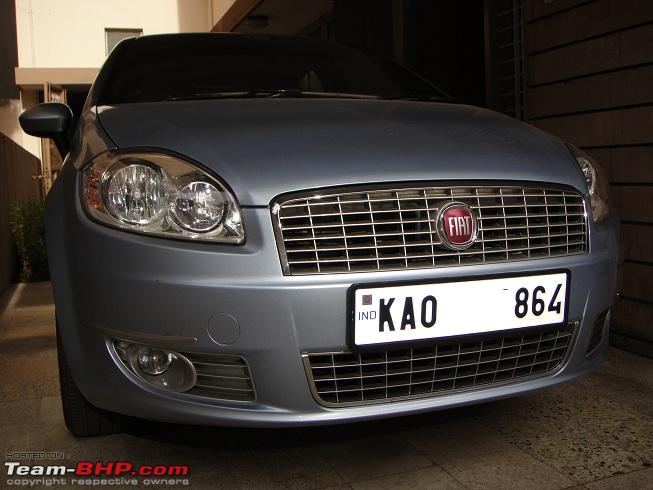number_plate: (345, 276, 588, 348)
